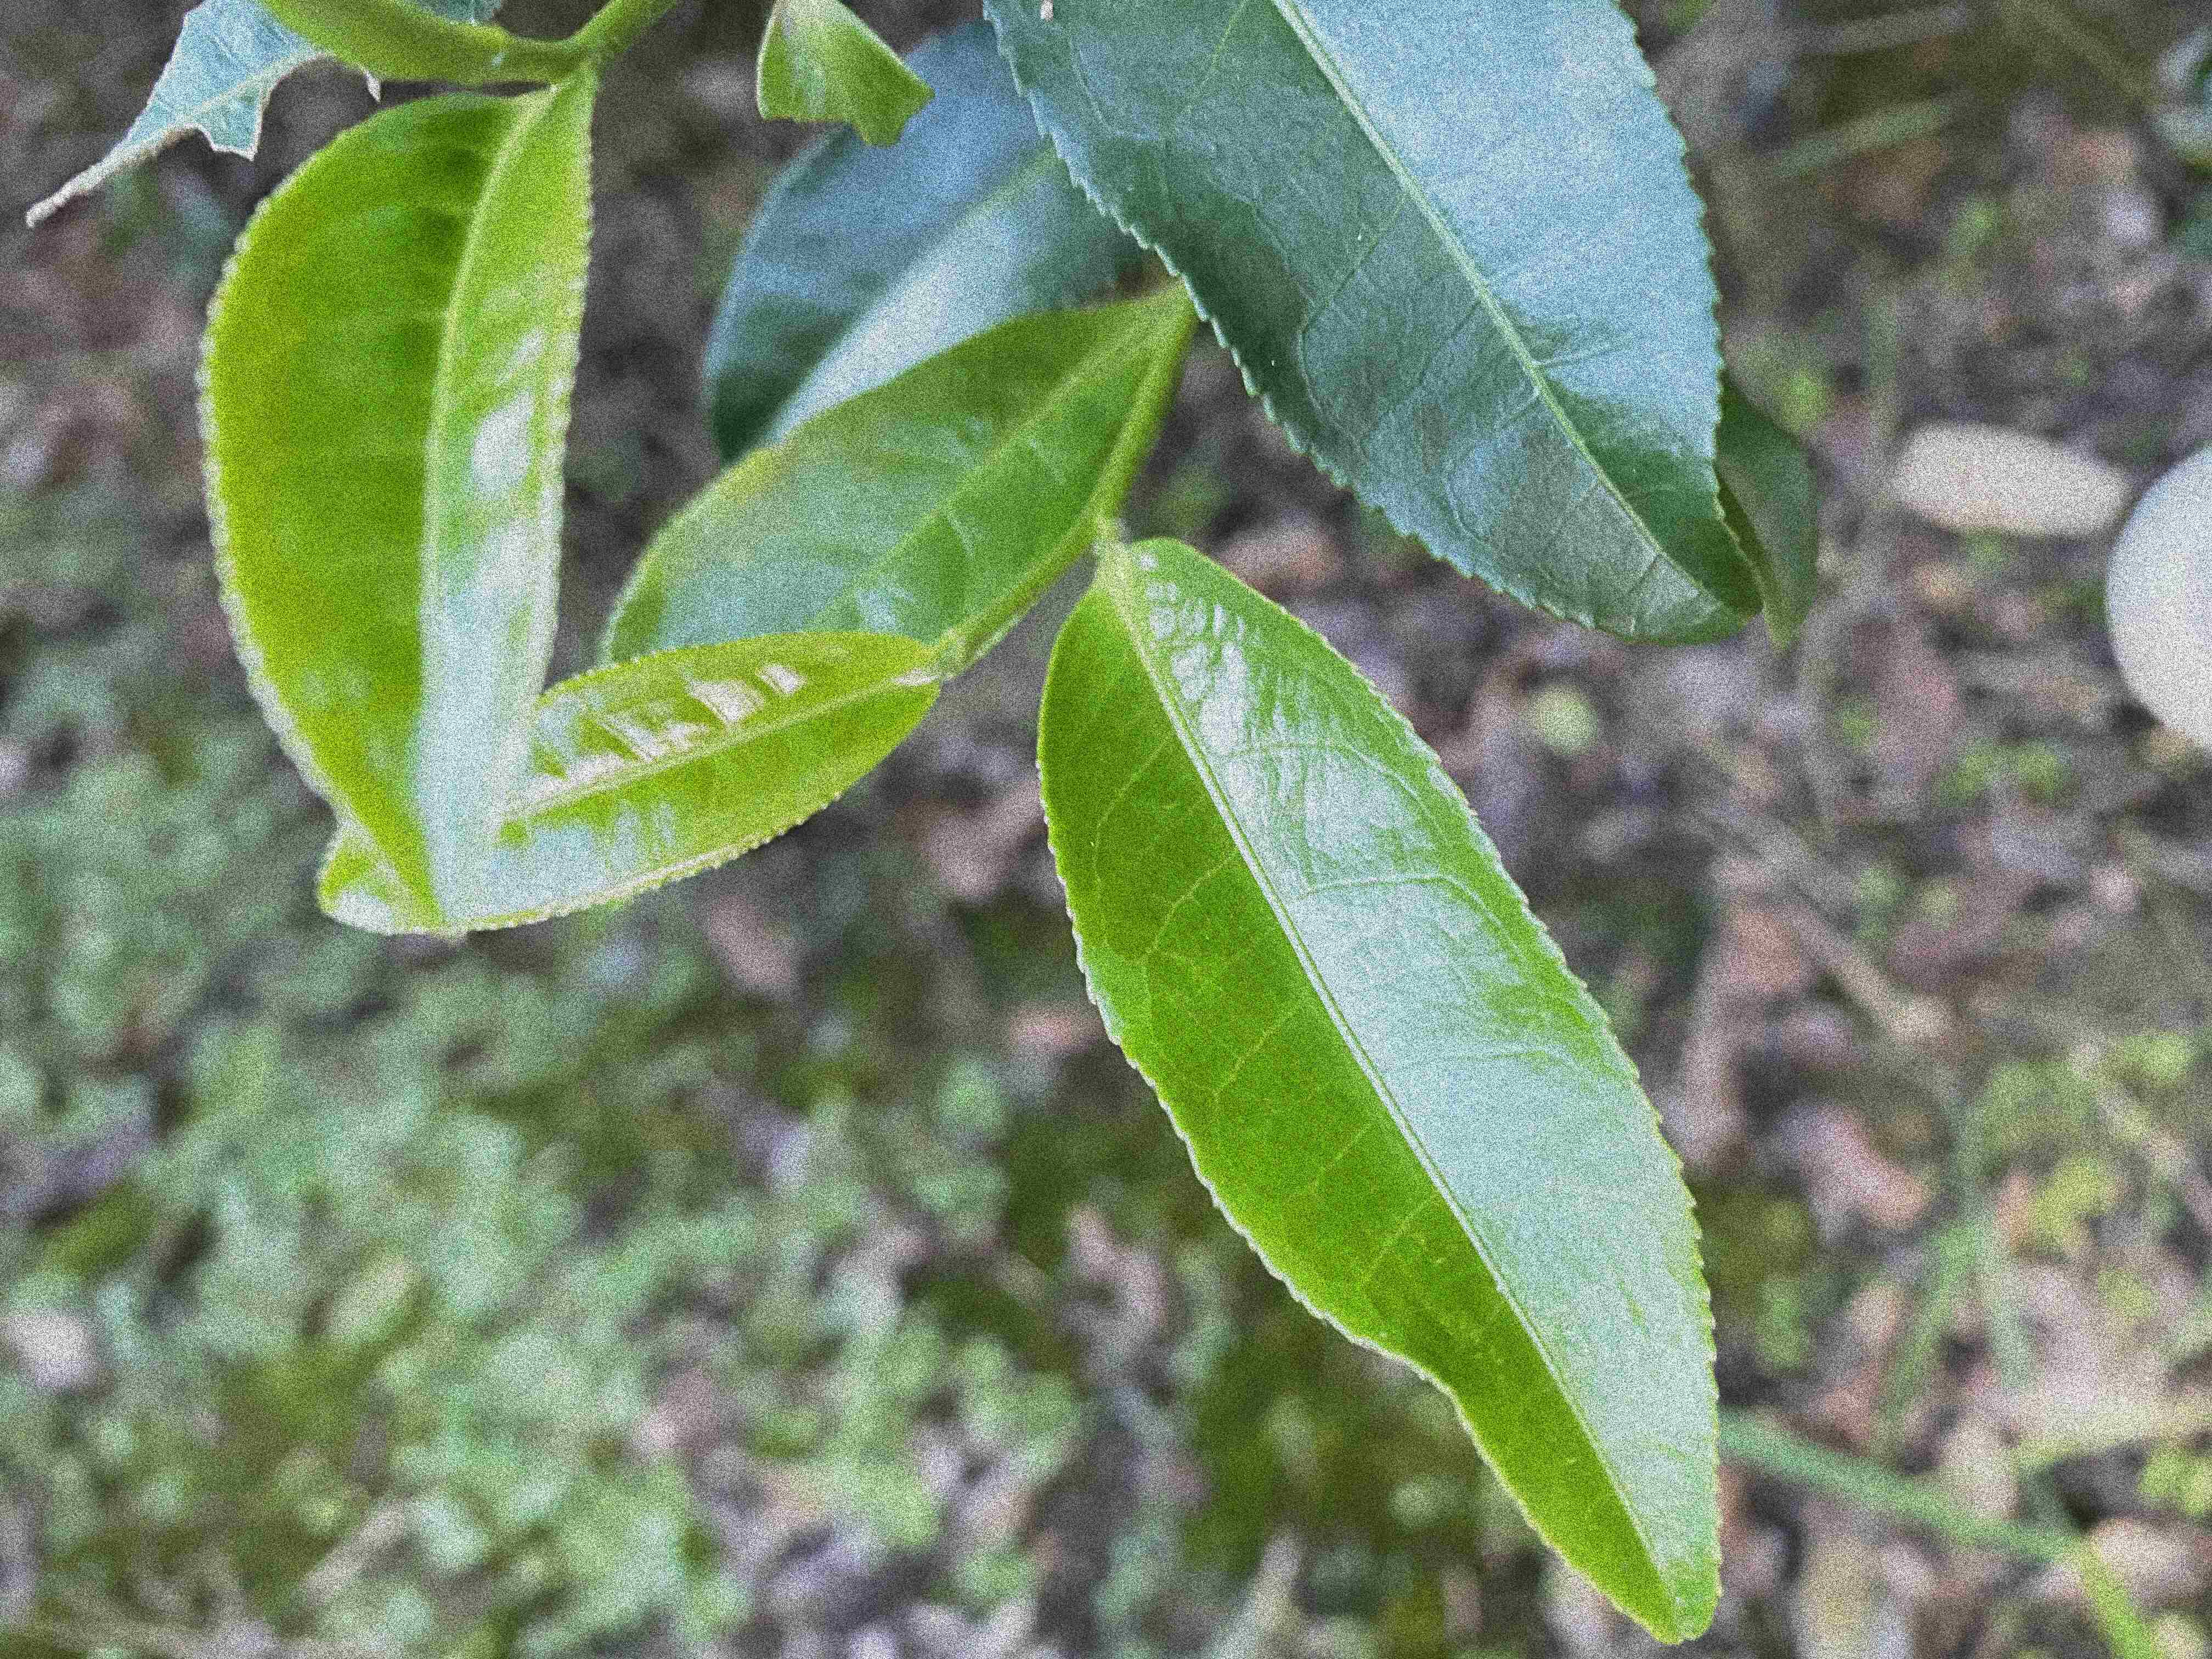chihuo_high: (23, 0, 503, 230), (752, 3, 932, 153)
healthy: (1035, 535, 1724, 1645), (982, 2, 1770, 650), (190, 84, 596, 943), (308, 626, 942, 936)
